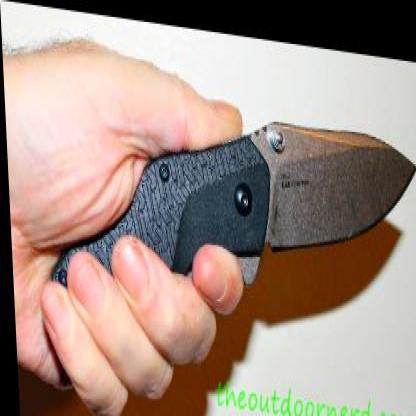knife: (80, 59, 415, 386)
